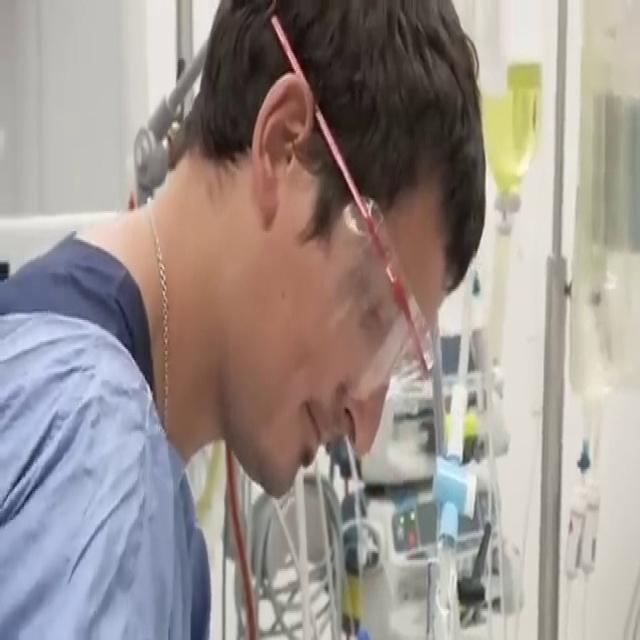doctor: (0, 0, 486, 636)
